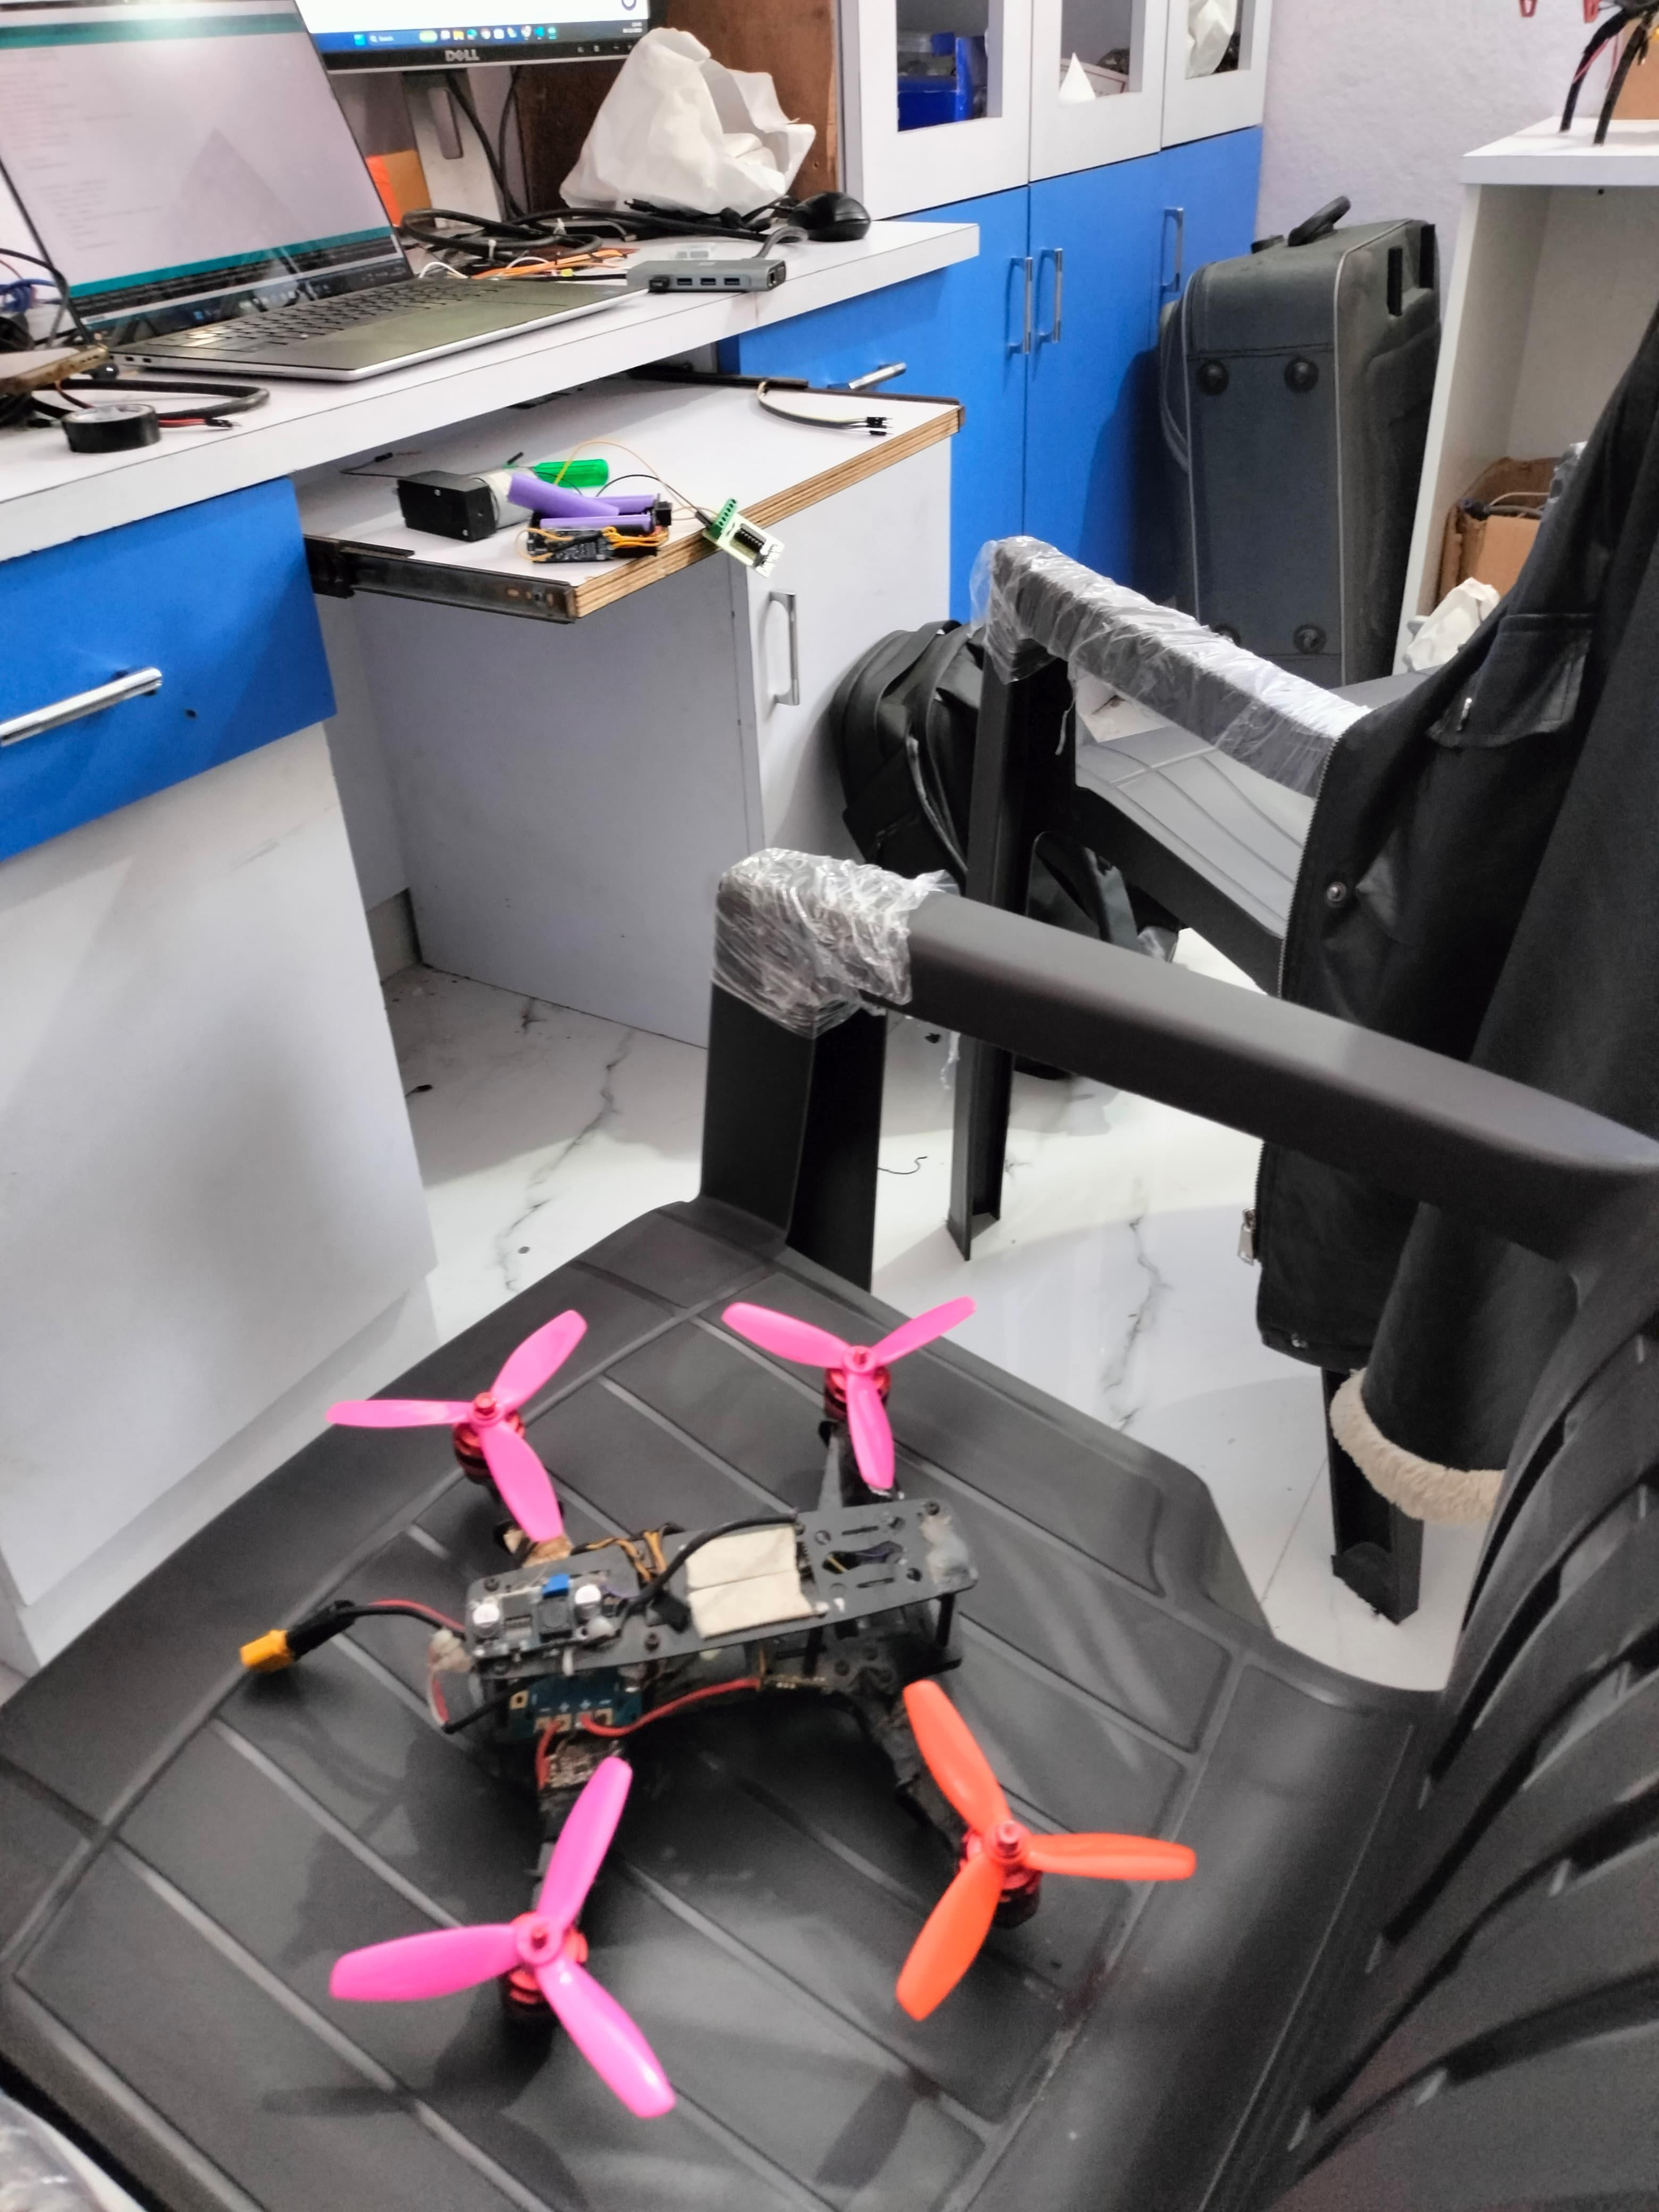drone: (220, 1284, 1202, 2102)
